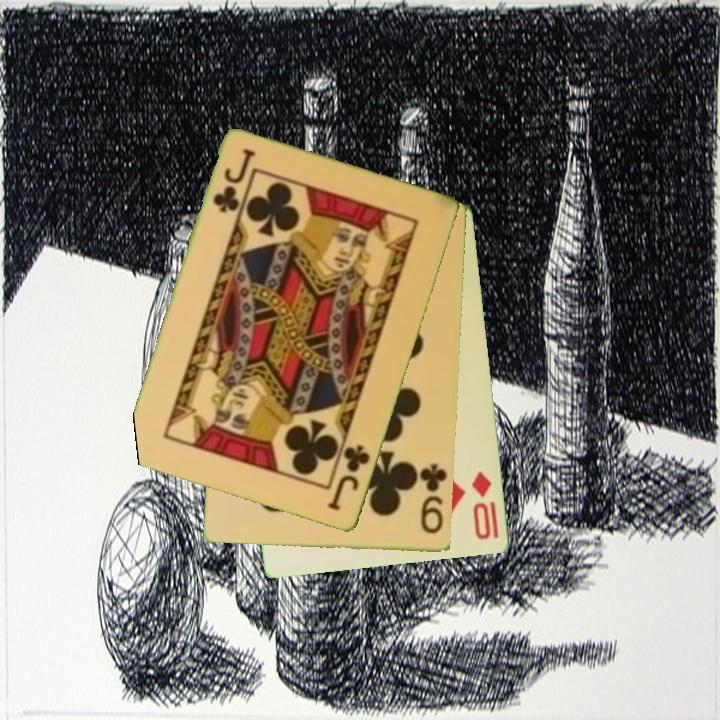10d: (468, 468, 502, 543)
9c: (417, 460, 450, 537)
Jc: (324, 441, 373, 514), (209, 145, 257, 217)
